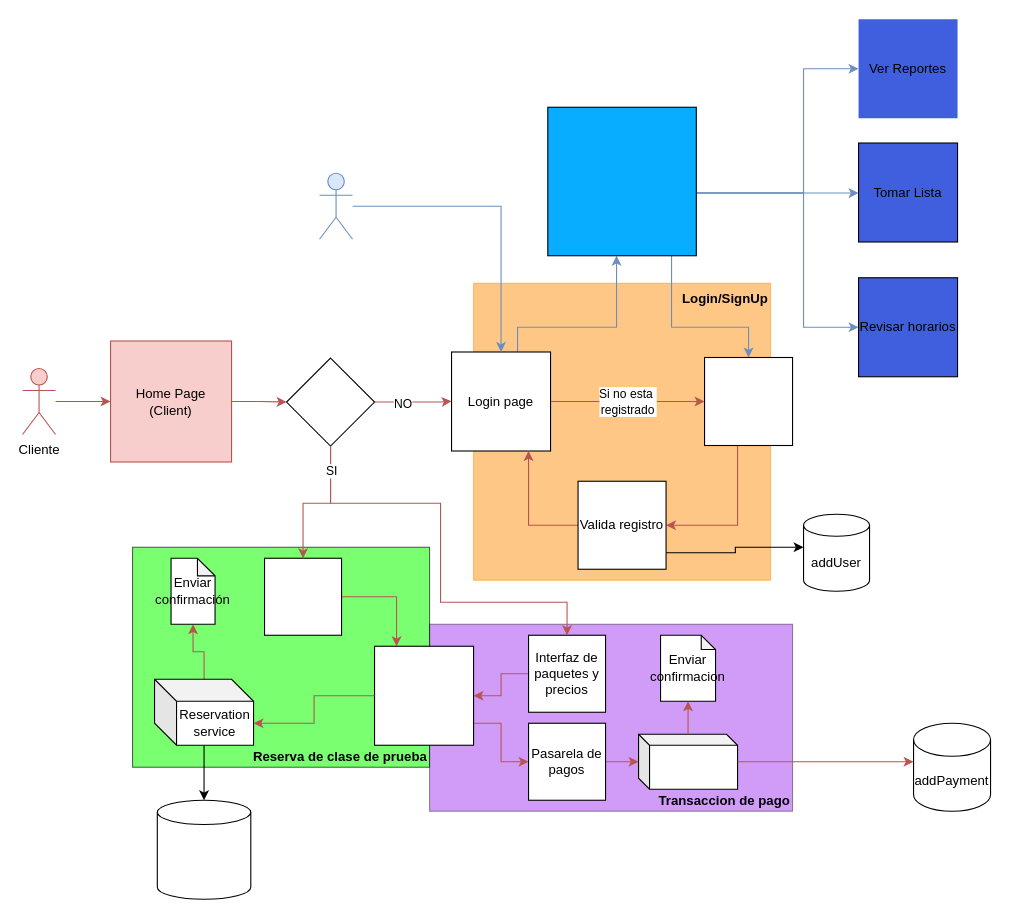
This 1010x919 diagram has some shape labels left out. The centre of each missing label's shape, as x and y in pixels:
addReservation: point (203, 849)
Admin: point (335, 205)
Esta logueado?: point (330, 401)
Home Page (Admin): point (621, 181)
Interfaz de registro de alumno: point (748, 401)
Interfaz de reserva de clase: point (302, 596)
Interfaz de seleccion de horarios: point (423, 695)
Payment service: point (687, 761)
